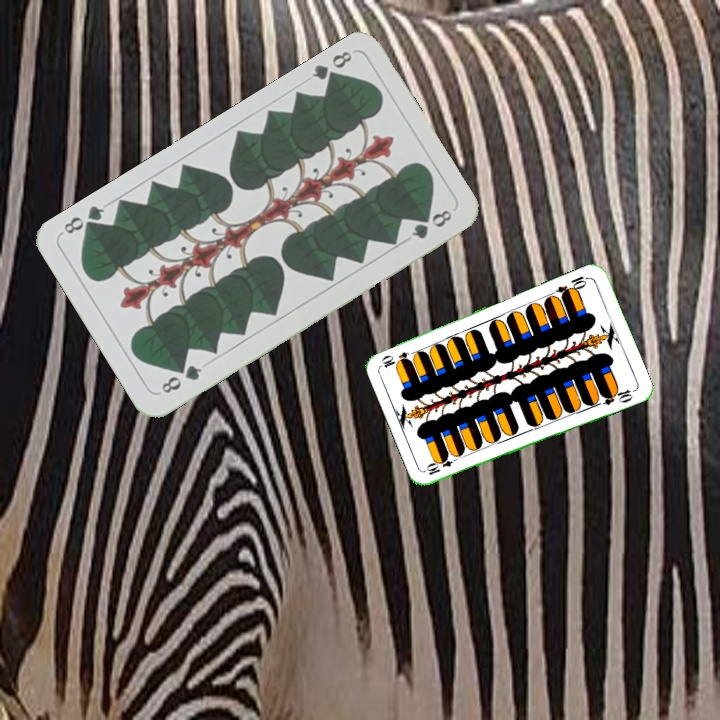E10: (553, 272, 592, 300), (422, 452, 462, 478)
G8: (307, 46, 355, 89), (157, 360, 205, 396)
